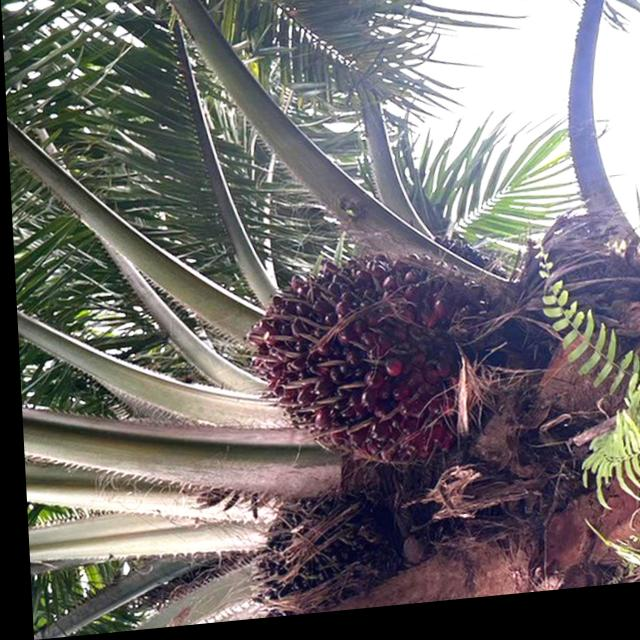ripe: (218, 224, 514, 503)
